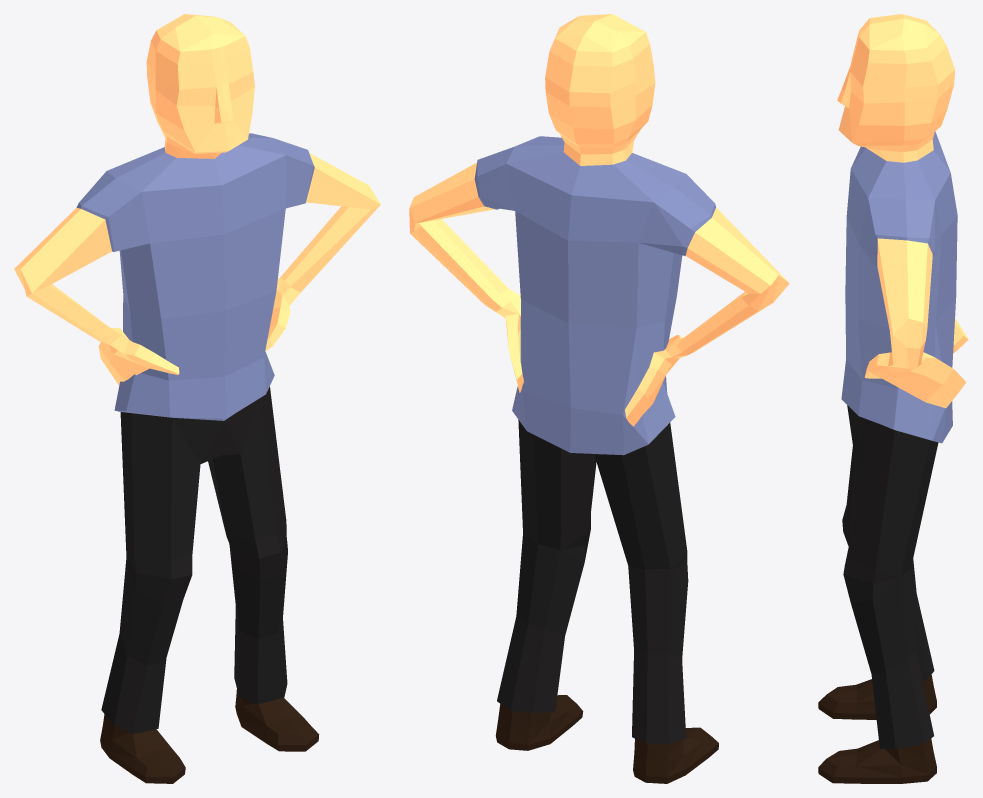
File: male_standing_hips.glb
3 renders of one model, left to right at view 1: azimuth 30°, elevation 25°; view 2: azimuth 150°, elevation 25°; view 3: azimuth 270°, elevation 25°, orthographic.
Parts seen in each view (by area): view 1: Male_Standing_Hips; view 2: Male_Standing_Hips; view 3: Male_Standing_Hips.
Part boxes in pixels (bbox=[...]): Male_Standing_Hips: bbox=[14, 14, 380, 783]; Male_Standing_Hips: bbox=[409, 14, 789, 783]; Male_Standing_Hips: bbox=[818, 14, 968, 783].
Bounding box in the file's own units: 0.9607 × 1.85 × 0.349.
